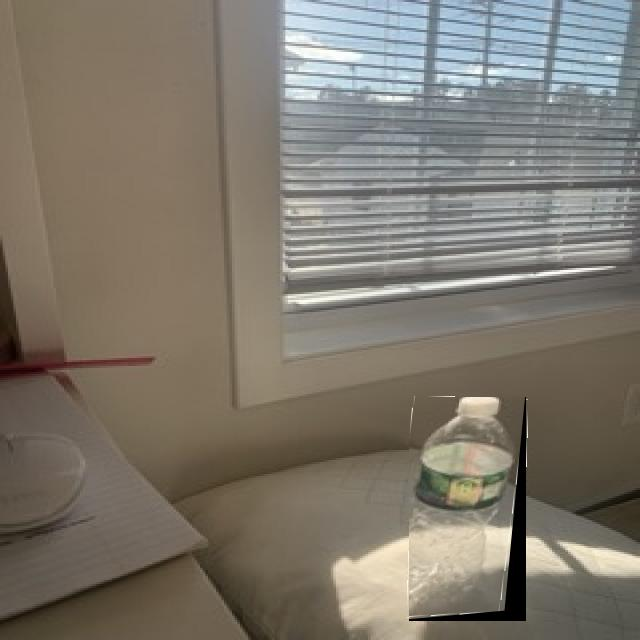water_bottle: (409, 397, 526, 621)
